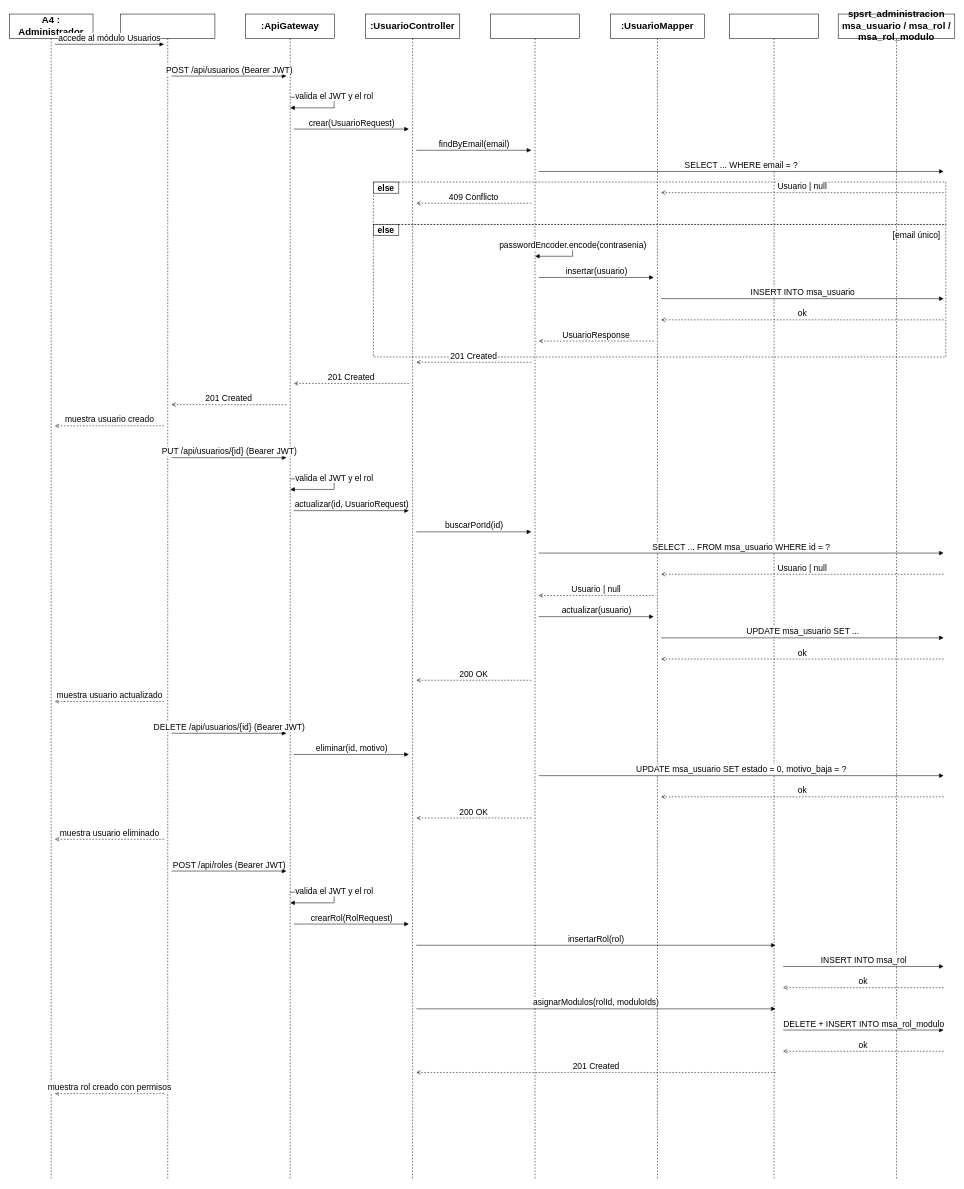
Some shapes in this 964 by 1189 pixel diagram are drawn without their labels. The shapes that lost their labels are listed below. From the top down, each one's box as (x1, y1, x2, y2) in pixels, then its label:
(373, 182, 946, 224): [email ya existe]
(120, 14, 215, 1180): :UsuariosPage (Angular)
(490, 14, 580, 1180): :UsuarioService
(729, 14, 819, 1180): :RolMapper
